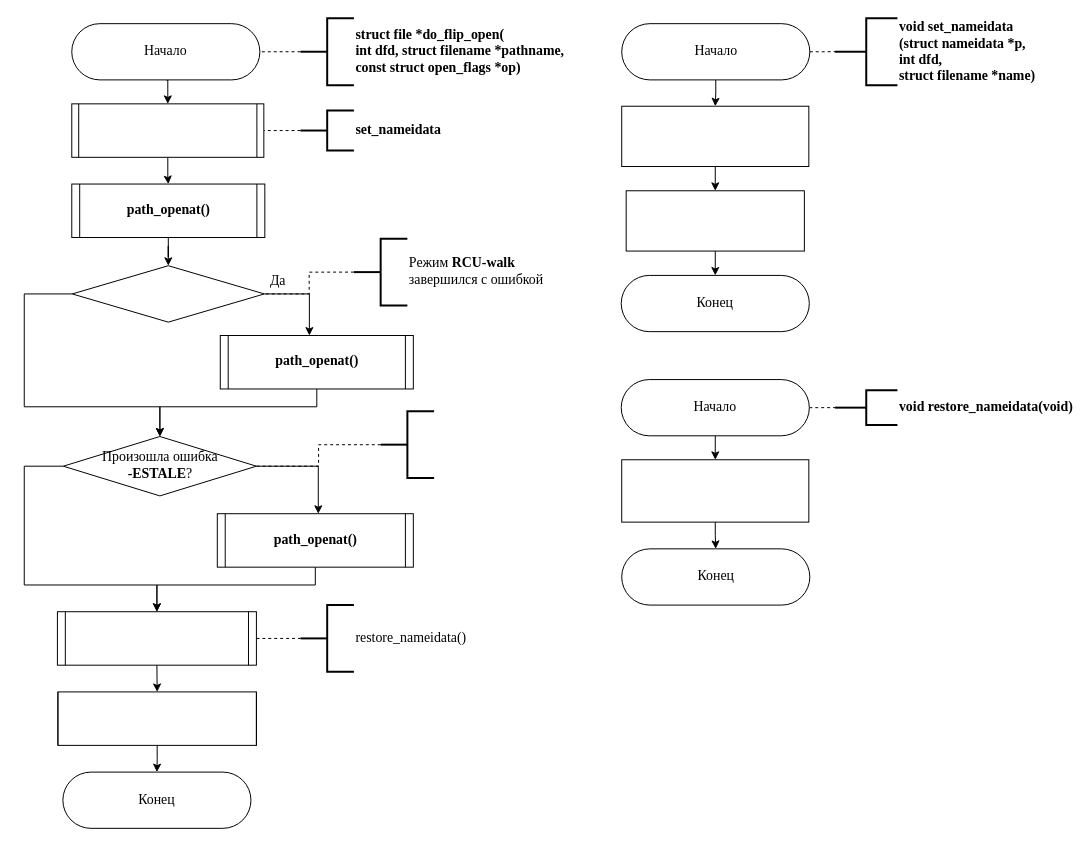
Image size: 1091x845. Some labels were removed from this diagram. Here are the shapes that lost their labels. From the top down, the centre of each, then its label:
At [167,130]: "Инициализация структуры nameidata".
At [715,136]: "Сохранение старого значения в поле saved struct nameidata текущего процесса".
At [714,220]: "Инициализация переданными аргументами полей name и dfd".
At [167,293]: "Произошла ошибка -ECHILD ?".
At [407,444]: "Режим REF-walk завершился с ошибкой".
At [715,490]: "Восстановление переданной struct nameidata из поля saved (если не NULL )".
At [156,638]: "Запись struct nameidata в контекст текущего процесса".
At [156,718]: "Возврат sturct file*".
